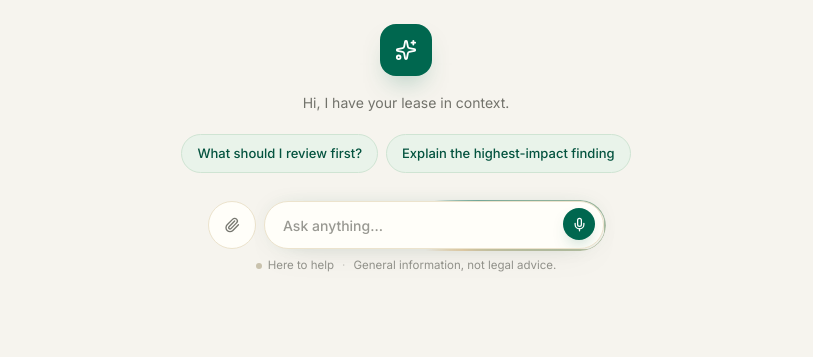
Test: AssistantConsole › answers a question and keeps the greeting as the transcript opener
Click the button with aria-label "Ask LexisGuide": {"x": 333, "y": 225} [265,202,555,248]
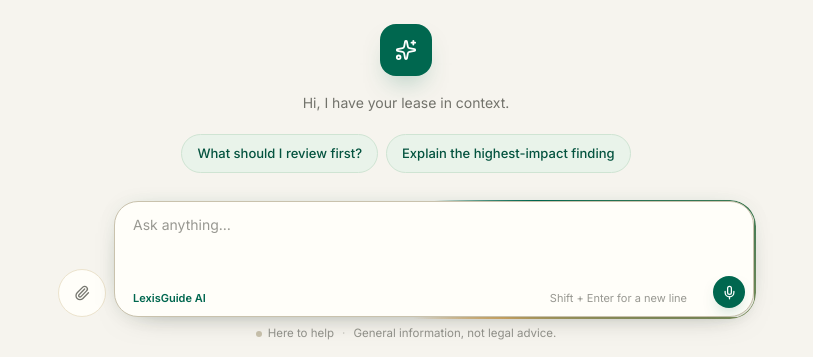
In the text box with placeholder "Ask anything…": {"x": 410, "y": 236} [115,202,705,270], type "What is a lien?"
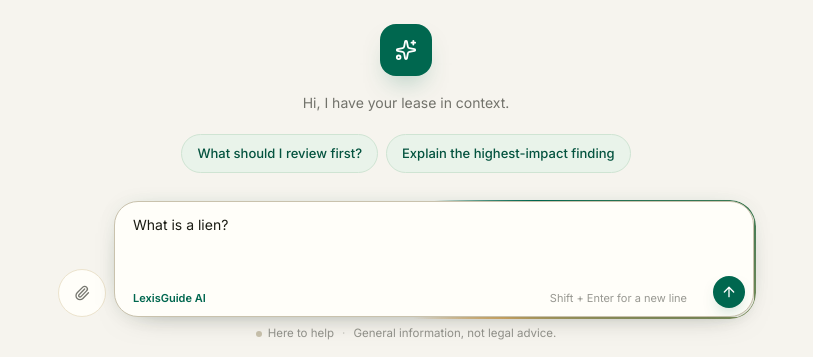
Press Enter
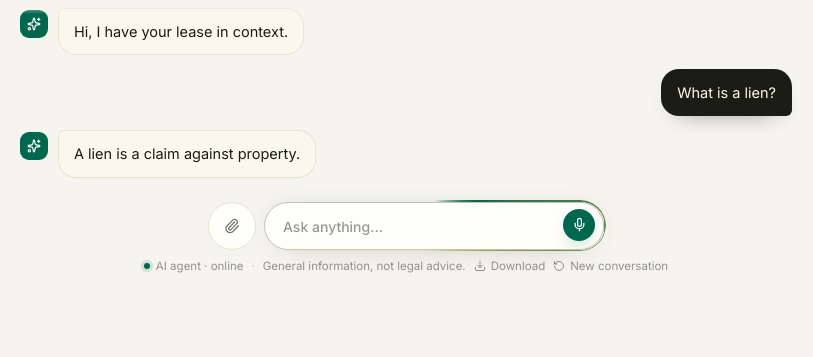
Now the text "A lien is a claim against property." is shown, box [74,142,300,166]
Now the text "What is a lien?" is shown, box [677,81,776,104]
Now the element with class "ac-thread" is shown, box [16,0,796,198]
